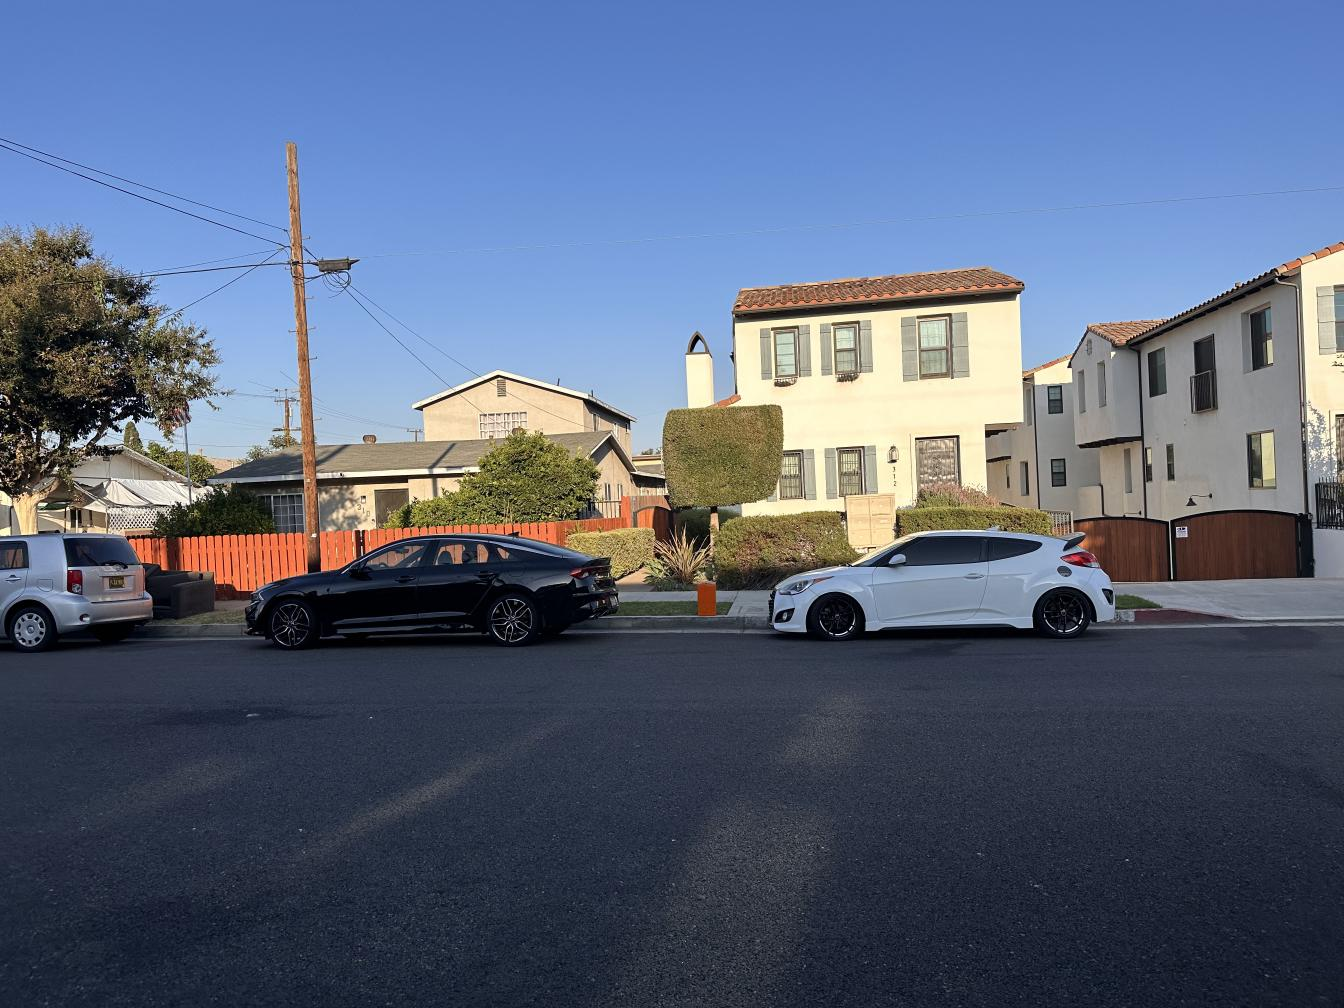curbs-laRr: (622, 616, 761, 631), (159, 626, 239, 640)
orange box: (697, 582, 716, 614)
